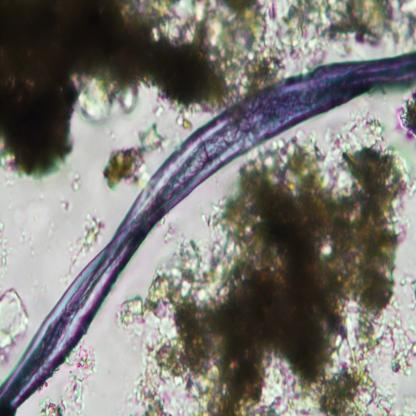Background material: (113, 115, 408, 414), (142, 0, 416, 106), (0, 1, 143, 182), (92, 126, 162, 184), (41, 342, 93, 414), (66, 210, 105, 274), (0, 286, 31, 359), (391, 87, 416, 138), (0, 217, 12, 272), (70, 170, 84, 194), (60, 204, 69, 212)
Cotton: (0, 46, 416, 415)
